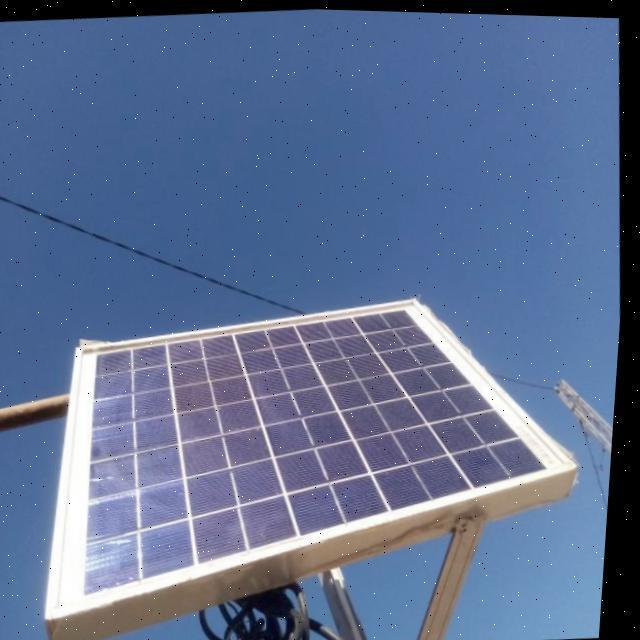Normal Solar Panel: (32, 273, 602, 632)
